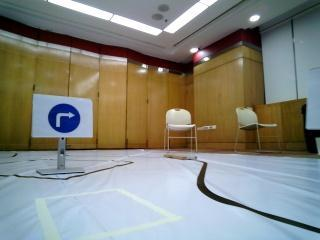right: (36, 95, 92, 138)
